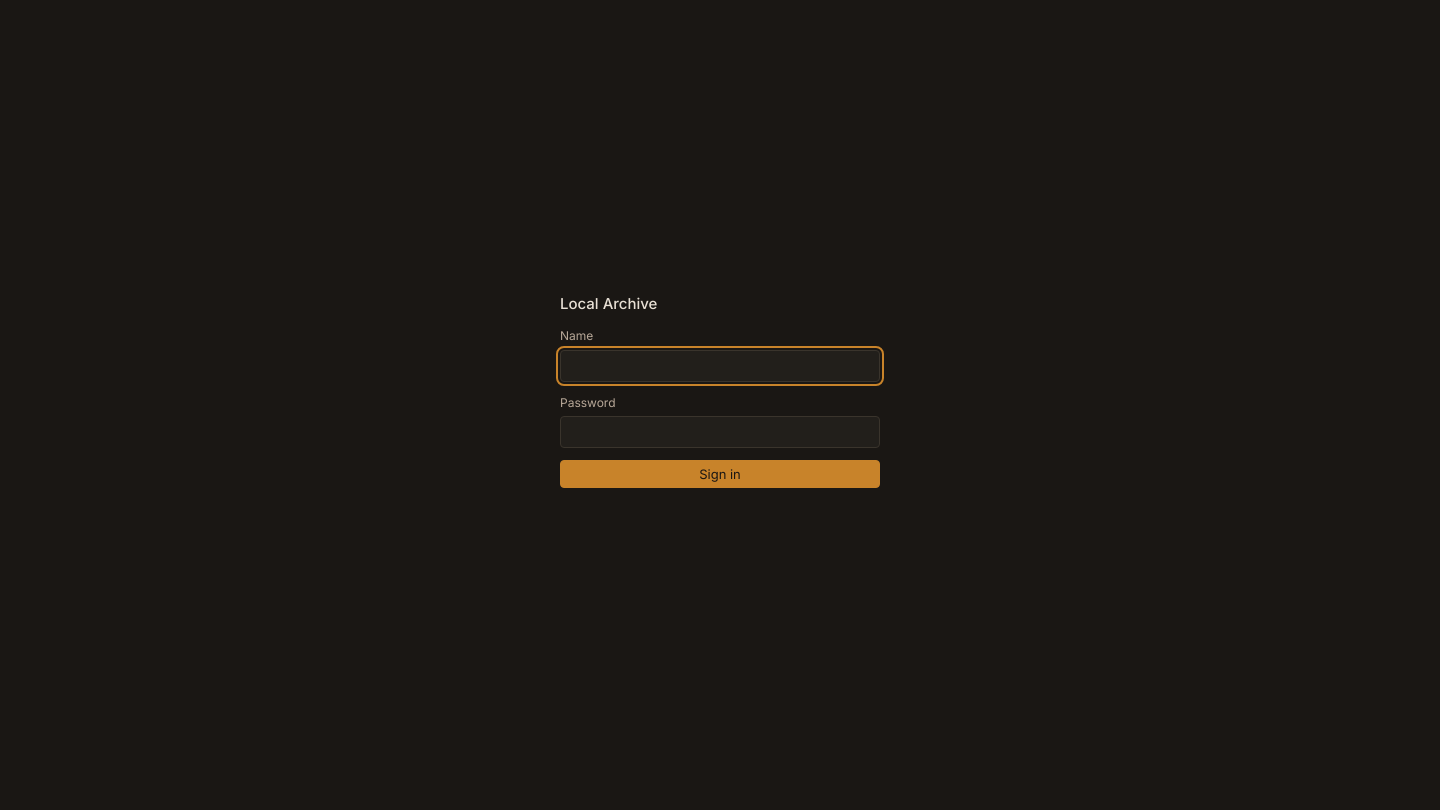
Test: SignIn › a wrong password shows the error line and stays
This screenshot has width=1440, height=810.
Type "ana" into the field labelled "Name" at (720, 366), box [560,350,880,382]
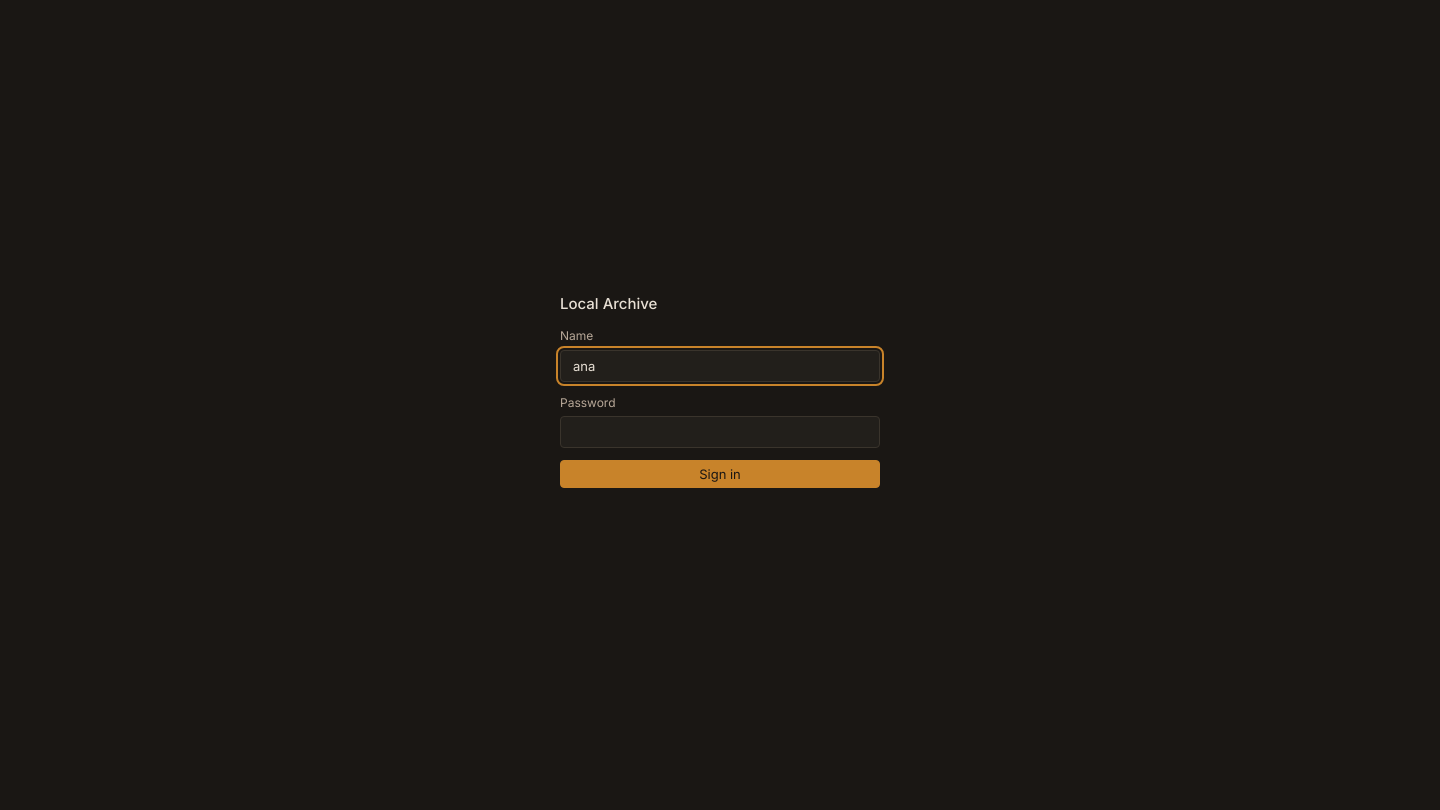
Type "bad" into the password field labelled "Password" at (720, 432), box [560,416,880,448]
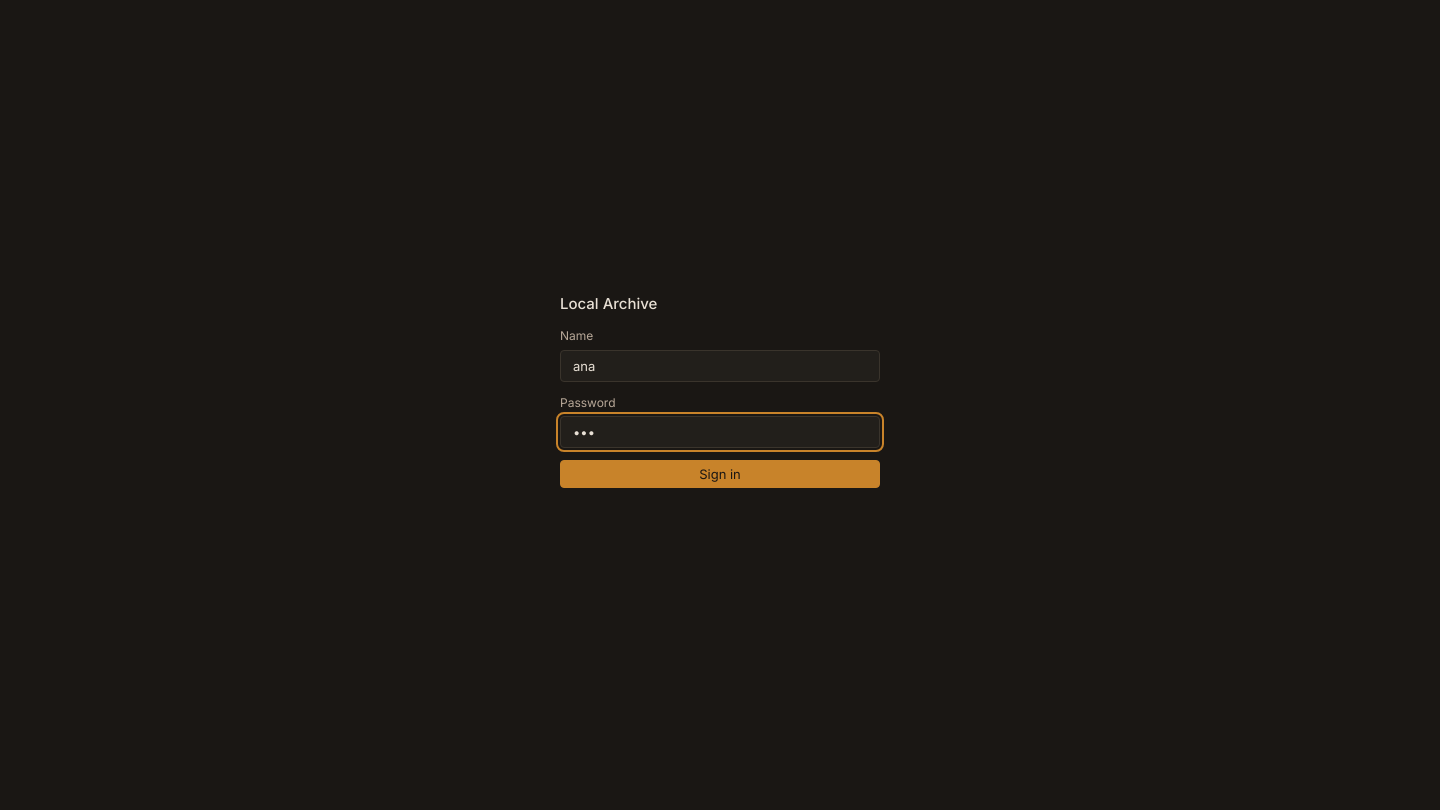
Click the button "Sign in" at (720, 474), box [560,460,880,488]
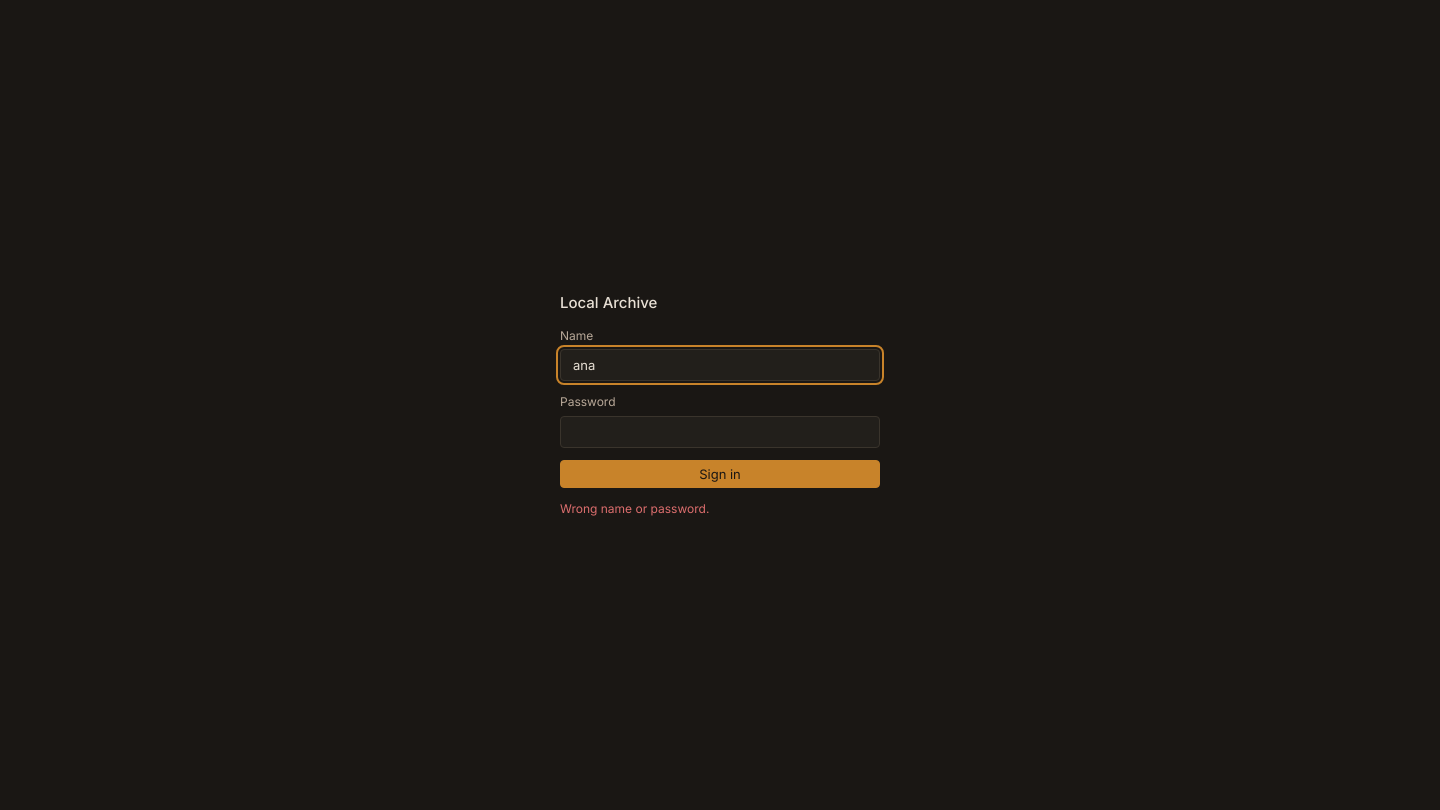
Expected: the message reads "Wrong name or password.", [560,501,709,516]
